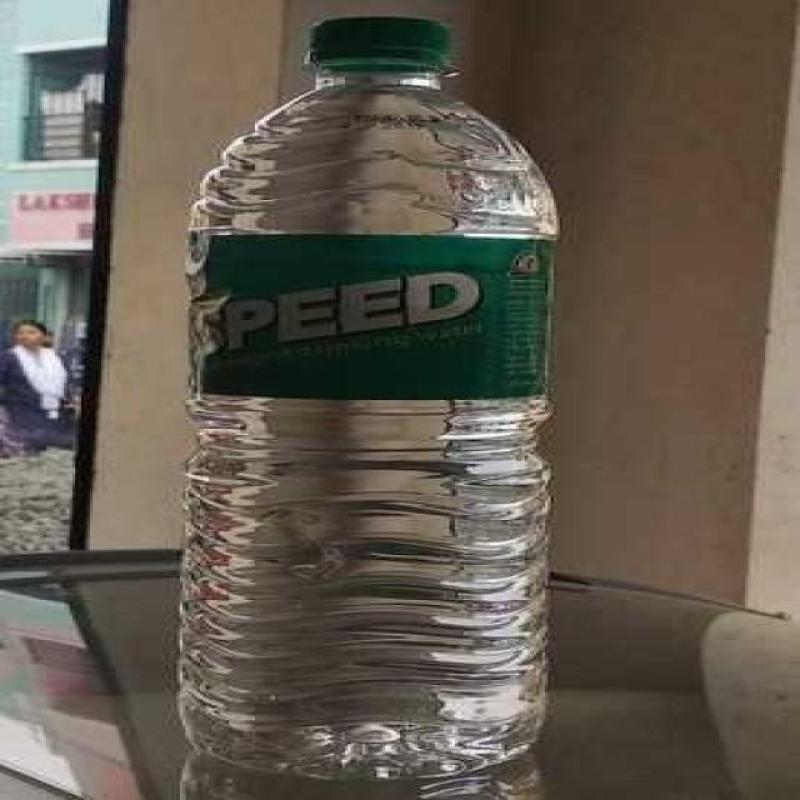botella: (174, 15, 560, 780)
